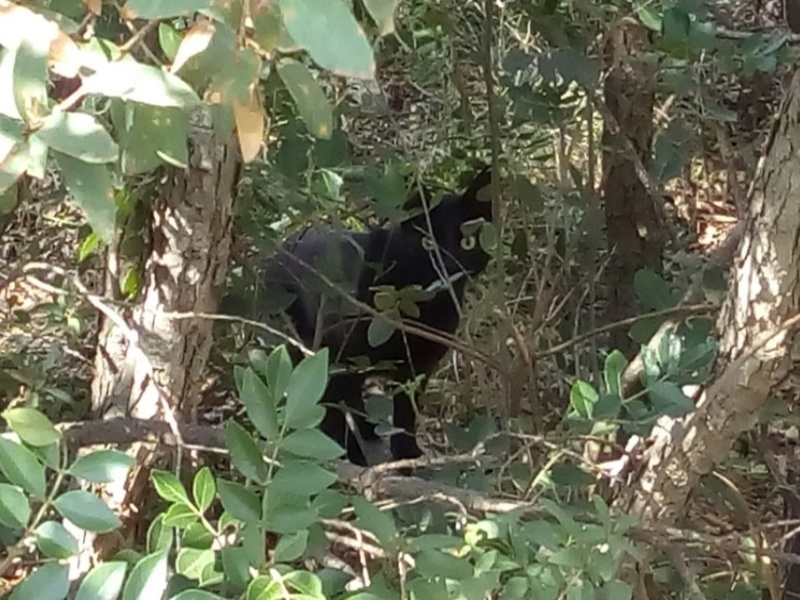cat: (256, 168, 507, 471)
